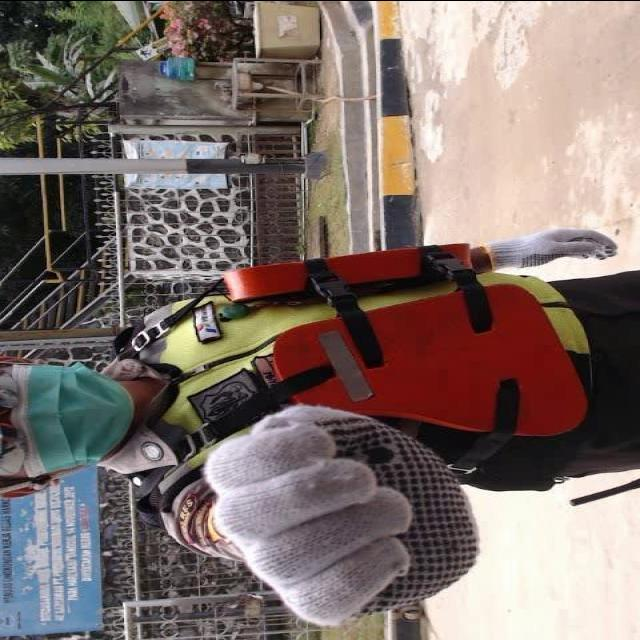jacket: (110, 232, 584, 565)
